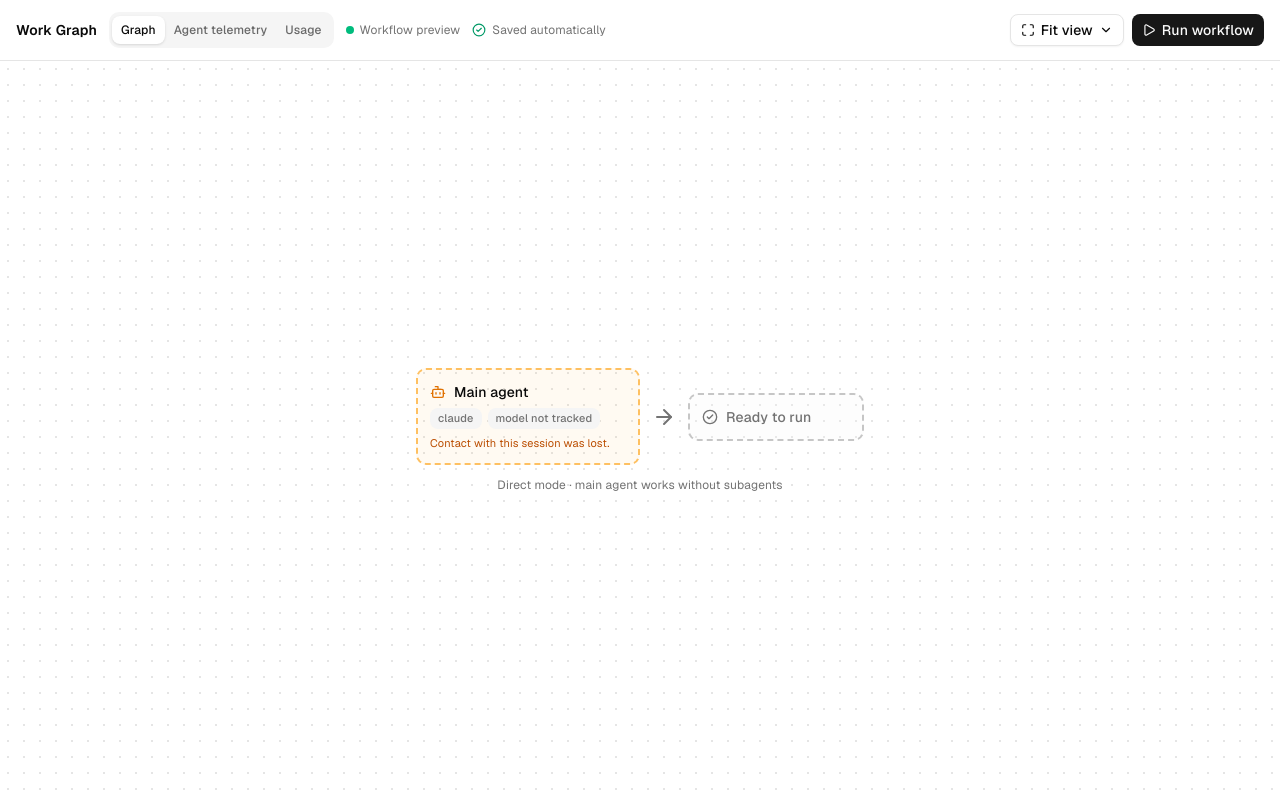
Test case: OrchestratorCanvas › the inspector still refuses harness/delete while merely unverifiable (loss of contact never proves exit)
Click the button with test id "orchestrator-main-agent" at (528, 416), box [416,368,640,465]
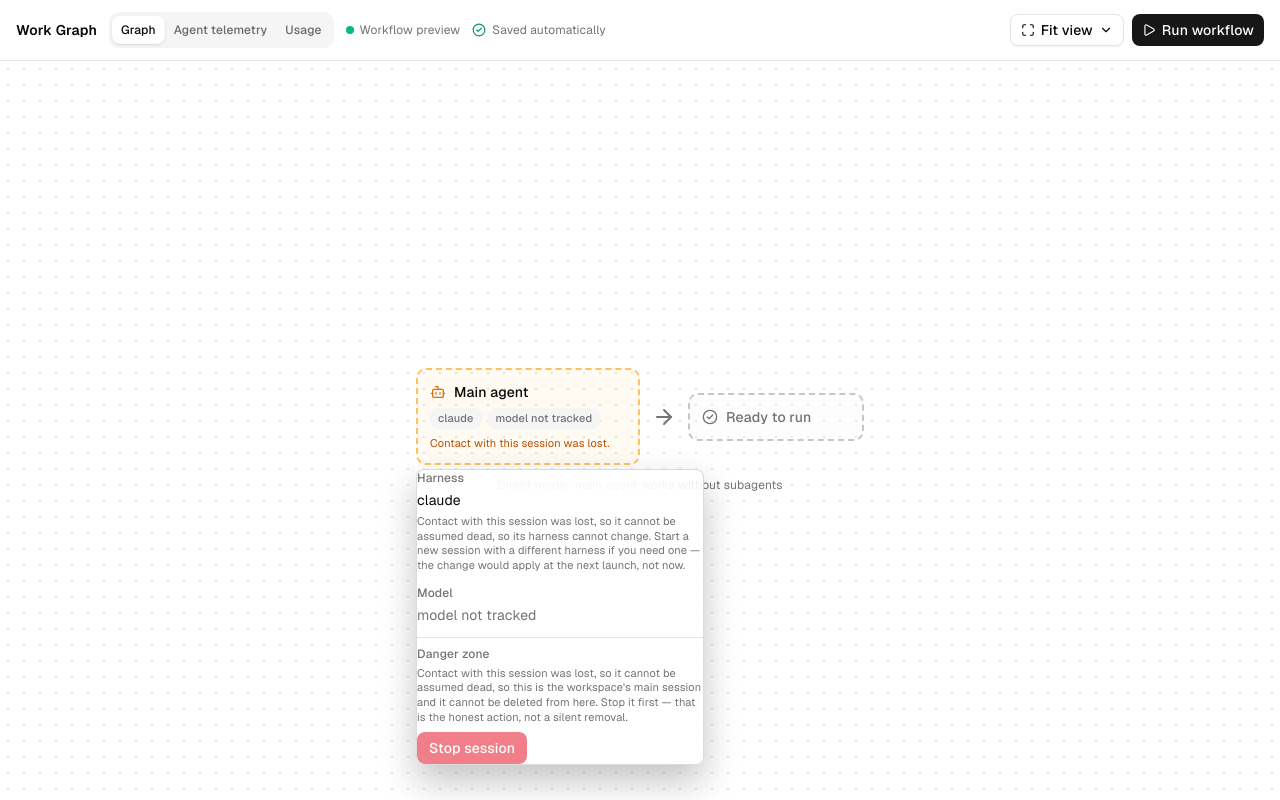
Expected: the text with test id "main-agent-harness-locked" is shown, [417,514,703,573]
Expected: the text with test id "main-agent-delete-refused" is shown, [417,666,703,724]
